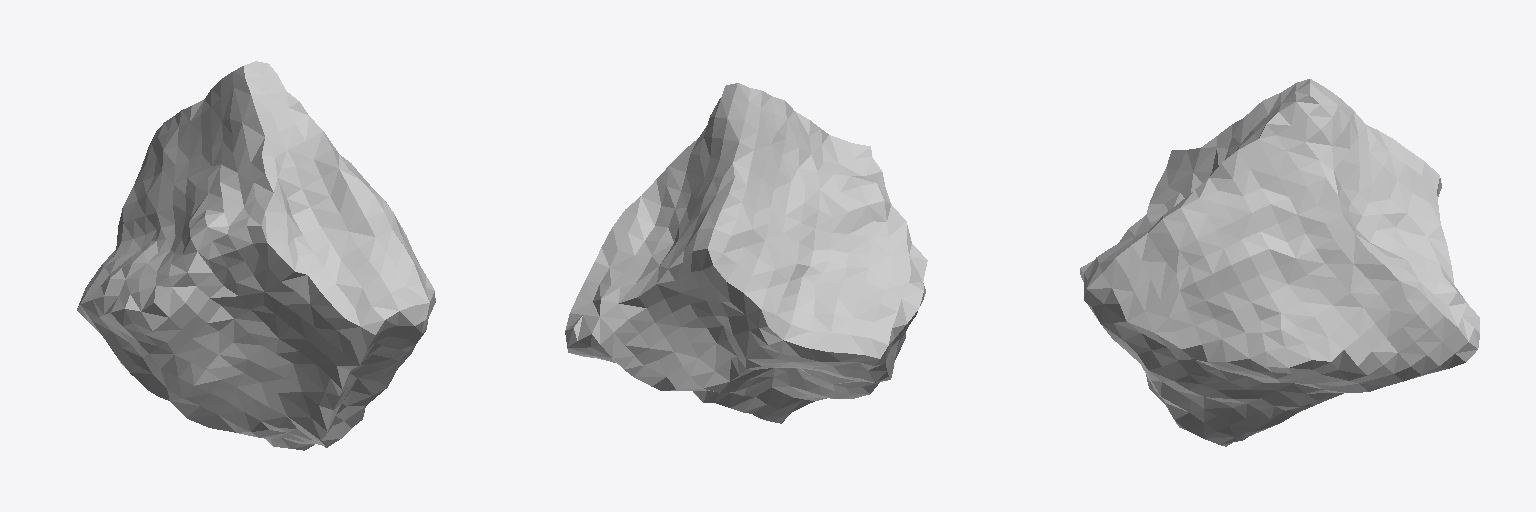
Rendered from rock.obj.
The picture shows the model from 3 angles: view 1: azimuth 30°, elevation 25°; view 2: azimuth 150°, elevation 25°; view 3: azimuth 270°, elevation 25°; orthographic projection.
Parts seen in each view (by area): view 1: rock; view 2: rock; view 3: rock.
Part boxes in pixels (left/top/right/bottom): rock: left=77, top=61, right=435, bottom=450; rock: left=565, top=83, right=927, bottom=423; rock: left=1080, top=79, right=1479, bottom=446.
Bounding box in the file's own units: 1.93 × 2.24 × 2.25.